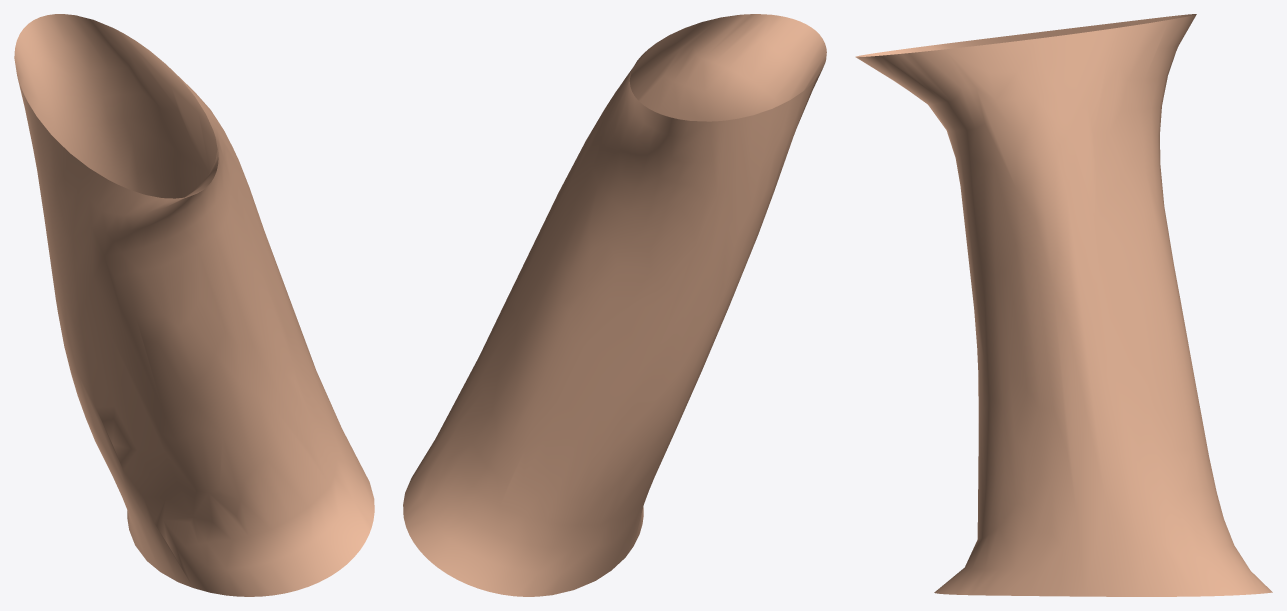
The model's file is ductus.gltf.
3 renders of one model, left to right at view 1: azimuth 30°, elevation 25°; view 2: azimuth 150°, elevation 25°; view 3: azimuth 270°, elevation 25°, orthographic. The views are drawn at different scales.
Parts seen in each view (by area): view 1: Cylinder.014; view 2: Cylinder.014; view 3: Cylinder.014.
Part boxes in pixels (x1=…): Cylinder.014: x1=14, y1=14, x2=374, y2=596; Cylinder.014: x1=403, y1=14, x2=826, y2=596; Cylinder.014: x1=855, y1=14, x2=1272, y2=596.
Size of the model in its own units: 0.5093 by 0.8319 by 0.5793.
